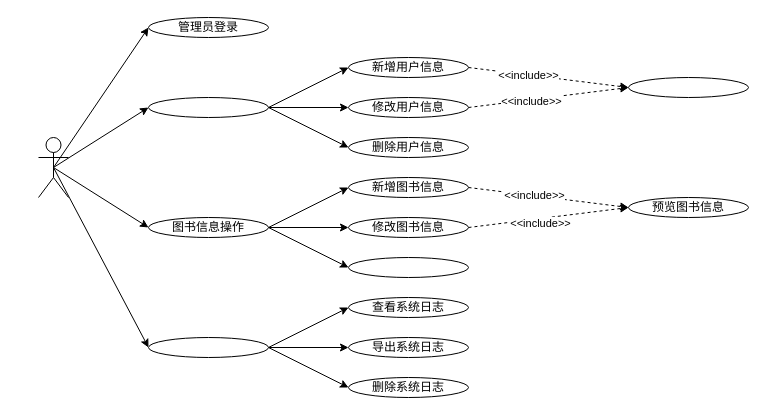
This 766x415 diagram has some shape labels left out. Here are the shapes that lost their labels. From the top down, the centre of each, then its label:
[208,107]: 用户信息操作
[688,87]: 预览用户信息
[53,167]: 图书馆管理员
[408,267]: 删除图书信息
[208,347]: 日志信息操作
